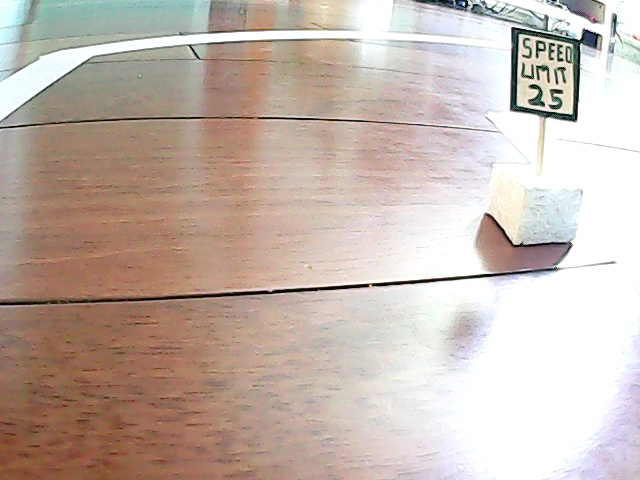speed_25: (482, 26, 590, 252)
